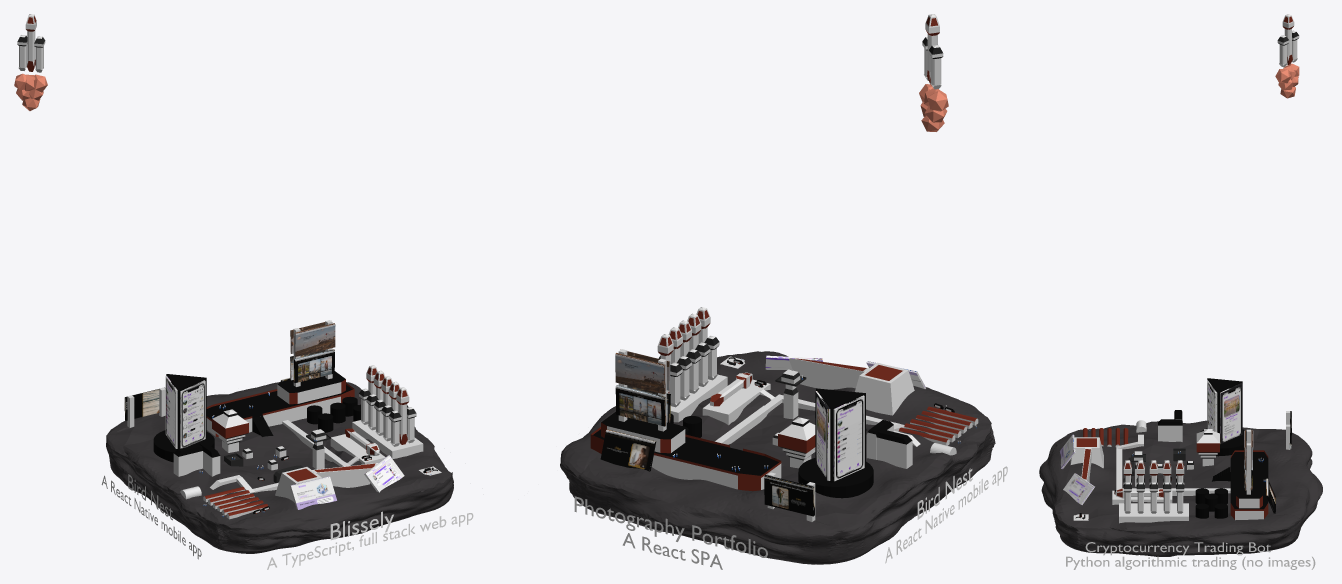
The model's file is LandingAnimationCompressed.glb.
The picture shows the model from 3 angles, left to right: view 1: azimuth 30°, elevation 25°; view 2: azimuth 150°, elevation 25°; view 3: azimuth 270°, elevation 25°; orthographic projection. The views are drawn at different scales.
Visible parts, largest first — view 1: Ground, Cube, ImagePWLanding.005, Cube.029, ImagePWLanding.002, ControlCenter, ImagePWLanding.004, ImagePWLanding.001, Text.004, Cube.007, RocketStorage, ImagePWLanding.003 (+7 smaller); view 2: Ground, Cube, ImagePWLanding.007, RocketOnePlatform, Cylinder, Cube.007, ImagePWLanding.008, Cube.029, ImagePWLanding, ImagePWLanding.006, ImagePWLanding.009, ControlCenter (+9 smaller); view 3: Ground, Cube, BirdNestImages.001, Text.007, RocketStorage, Cube.029, Text.003, ControlCenter, RocketOnePlatform, Cube.048, ImagePWLanding.003, ImagePWLanding.005 (+2 smaller).
Boxes of the visible parts, <box> form: Ground: <box>106,382,453,553</box>; Cube: <box>206,383,354,436</box>; ImagePWLanding.005: <box>180,380,205,448</box>; Cube.029: <box>277,371,345,404</box>; ImagePWLanding.002: <box>290,476,336,509</box>; ControlCenter: <box>212,409,248,452</box>; ImagePWLanding.004: <box>294,323,335,356</box>; ImagePWLanding.001: <box>293,349,334,382</box>; Text.004: <box>267,513,473,569</box>; Cube.007: <box>310,463,378,487</box>; RocketStorage: <box>352,420,423,458</box>; ImagePWLanding.003: <box>364,455,404,492</box>; Ground: <box>560,351,995,564</box>; Cube: <box>590,427,781,491</box>; ImagePWLanding.007: <box>833,395,864,481</box>; RocketOnePlatform: <box>855,362,914,415</box>; Cylinder: <box>798,458,873,498</box>; Cube.007: <box>789,358,871,389</box>; ImagePWLanding.008: <box>600,429,656,471</box>; Cube.029: <box>601,412,685,453</box>; ImagePWLanding: <box>615,353,665,394</box>; ImagePWLanding.006: <box>615,385,666,426</box>; ImagePWLanding.009: <box>764,475,814,516</box>; ControlCenter: <box>778,417,815,468</box>; Ground: <box>1039,420,1322,556</box>; Cube: <box>1230,450,1268,520</box>; BirdNestImages.001: <box>1220,383,1242,444</box>; Text.007: <box>1066,556,1315,569</box>; RocketStorage: <box>1119,503,1188,523</box>; Cube.029: <box>1236,474,1262,508</box>; Text.003: <box>1085,542,1270,555</box>; ControlCenter: <box>1196,429,1219,466</box>; RocketOnePlatform: <box>1070,437,1103,468</box>; Cube.048: <box>1158,419,1182,441</box>; ImagePWLanding.003: <box>1063,473,1094,504</box>; ImagePWLanding.005: <box>1207,380,1217,432</box>.
Bounding box in the file's own units: 11.47 × 15.35 × 9.75.
70 materials, 9 textured.
